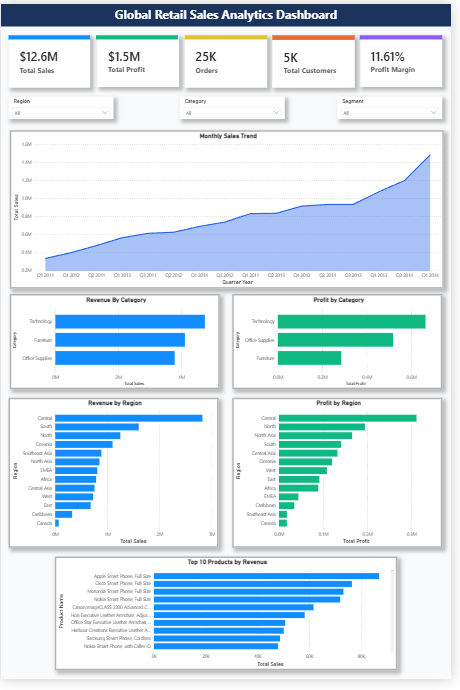

The page's visual inventory and layout, read from the dashboard file:
{"tool":"powerbi","page":{"name":"Page 1","canvas":[1200,1800],"ordinal":0},"visuals":[{"type":"textbox","box":[0,0,1200,60],"z":0},{"type":"cardVisual","fields":{"Data":["superstore.Total Sales"]},"box":[20.5,82.9,217.9,140],"z":1000},{"type":"cardVisual","fields":{"Data":["superstore.Total Profit"]},"box":[255.7,84.8,218.6,137.7],"z":2000},{"type":"cardVisual","fields":{"Data":["superstore.Total Orders"]},"box":[488.8,82.9,219.9,140],"z":3000},{"type":"cardVisual","fields":{"Data":["superstore.Profit Margin"]},"box":[957.5,82.9,220,137.5],"z":4000},{"type":"shape","box":[20,82.5,217.9,11.4],"z":5000},{"type":"shape","box":[488.8,82.5,219.9,11.4],"z":6000},{"type":"lineChart","title":"Monthly Sales Trend","fields":{"Y":["superstore.Total Sales"],"Category":["superstore.Quarter Year"]},"box":[22.5,337.5,1157.5,422.5],"z":7000},{"type":"shape","box":[254.4,82.5,218.6,11.2],"z":8000},{"type":"shape","box":[957.8,82.5,220,11.2],"z":9000},{"type":"clusteredBarChart","title":"Revenue By Category","fields":{"Category":["superstore.Category"],"Y":["superstore.Total Sales"]},"box":[23.3,773.3,560,253.3],"z":10000},{"type":"clusteredBarChart","title":"Profit by Category","fields":{"Y":["superstore.Total Profit"],"Category":["superstore.Category"]},"box":[616.7,773.3,560,253.3],"z":11000},{"type":"clusteredBarChart","title":"Revenue by Region","fields":{"Category":["superstore.Region"],"Y":["superstore.Total Sales"]},"box":[20,1050,560,400],"z":12000},{"type":"clusteredBarChart","title":"Profit by Region","fields":{"Category":["superstore.Region"],"Y":["superstore.Total Profit"]},"box":[616.7,1050,560,400],"z":13000},{"type":"cardVisual","fields":{"Data":["superstore.Total Customers"]},"box":[723.1,82.5,220,140],"z":14000},{"type":"shape","box":[723.1,82.5,220,12.5],"z":15000},{"type":"slicer","fields":{"Values":["superstore.Region"]},"box":[20,245,280,60],"z":16000},{"type":"slicer","fields":{"Values":["superstore.Category"]},"box":[477.5,245,280,60],"z":17000},{"type":"slicer","fields":{"Values":["superstore.Segment"]},"box":[897.5,245,280,60],"z":18000},{"type":"clusteredBarChart","title":"Top 10 Products by Revenue","fields":{"Category":["superstore.Product Name"],"Y":["Sum(superstore.Sales)"]},"box":[143.3,1473.3,913.3,303.3],"z":19000}]}

Visuals, with their boxes in screenshot pixels (x1, y1, x2, y2), scaled from the page's 1200x1800 canvas onto the 460x690 screenshot:
textbox: region(0, 0, 459, 23)
cardVisual - superstore.Total Sales: region(8, 32, 91, 85)
cardVisual - superstore.Total Profit: region(98, 33, 182, 85)
cardVisual - superstore.Total Orders: region(187, 32, 272, 85)
cardVisual - superstore.Profit Margin: region(367, 32, 451, 84)
shape: region(8, 32, 91, 36)
shape: region(187, 32, 272, 36)
"Monthly Sales Trend" lineChart: region(9, 129, 452, 291)
shape: region(98, 32, 181, 36)
shape: region(367, 32, 451, 36)
"Revenue By Category" clusteredBarChart: region(9, 296, 224, 394)
"Profit by Category" clusteredBarChart: region(236, 296, 451, 394)
"Revenue by Region" clusteredBarChart: region(8, 402, 222, 556)
"Profit by Region" clusteredBarChart: region(236, 402, 451, 556)
cardVisual - superstore.Total Customers: region(277, 32, 362, 85)
shape: region(277, 32, 362, 36)
slicer - superstore.Region: region(8, 94, 115, 117)
slicer - superstore.Category: region(183, 94, 290, 117)
slicer - superstore.Segment: region(344, 94, 451, 117)
"Top 10 Products by Revenue" clusteredBarChart: region(55, 565, 405, 681)
